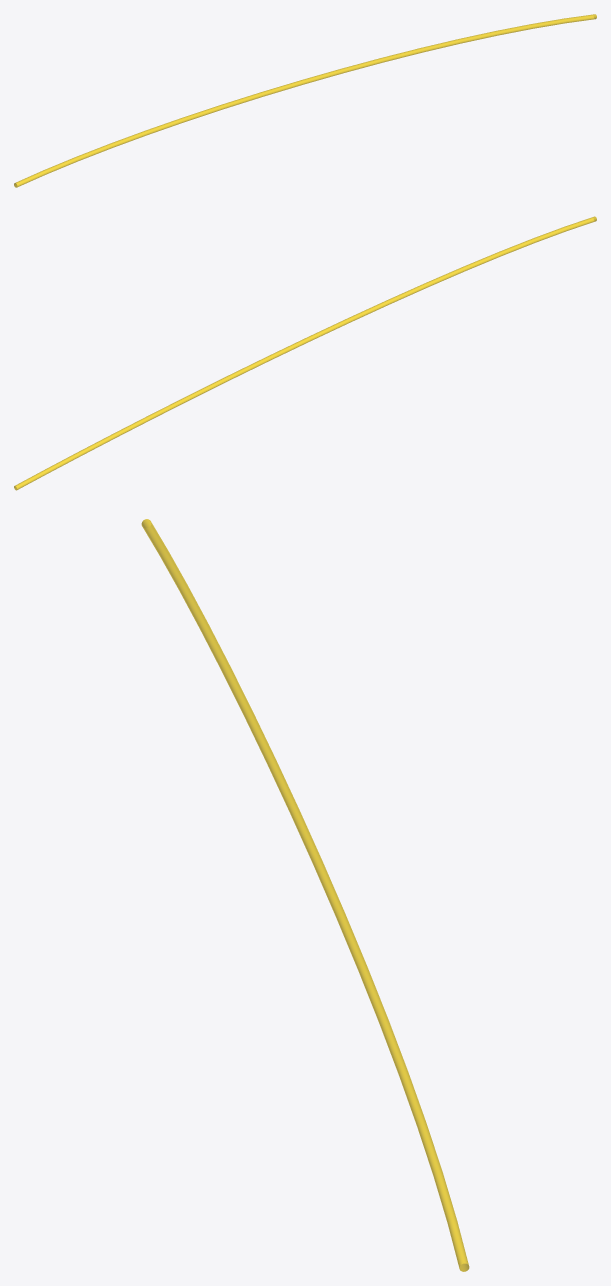
Rendered from Event_31209032_track_18.fbx.
3 views of the same model, one above another, from view 1: azimuth 30°, elevation 25°; view 2: azimuth 210°, elevation 25°; view 3: azimuth 270°, elevation 25° (orthographic). The views are drawn at different scales.
Parts seen in each view (by area): view 1: Model; view 2: Model; view 3: Model.
Boxes of the visible parts, x1=… form: Model: x1=14, y1=14, x2=596, y2=187; Model: x1=14, y1=216, x2=596, y2=490; Model: x1=141, y1=519, x2=469, y2=1271.
Bounding box in the file's own units: 6.04 × 0.4993 × 1.3.
